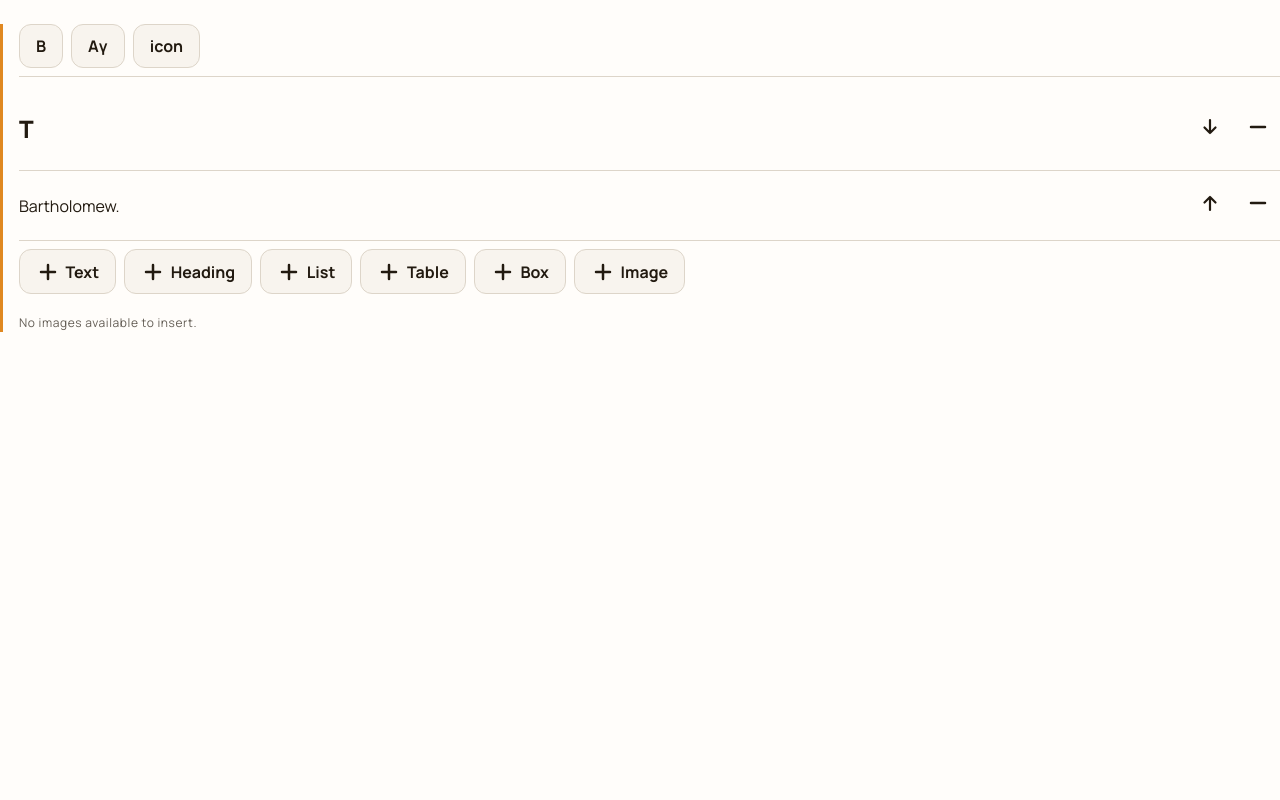
it: NoteEditor - lexicon sheet (spec 0021-3) › readout: no match
Click the button with aria-label "Edit this text" at (69, 206), box [19,195,120,217]
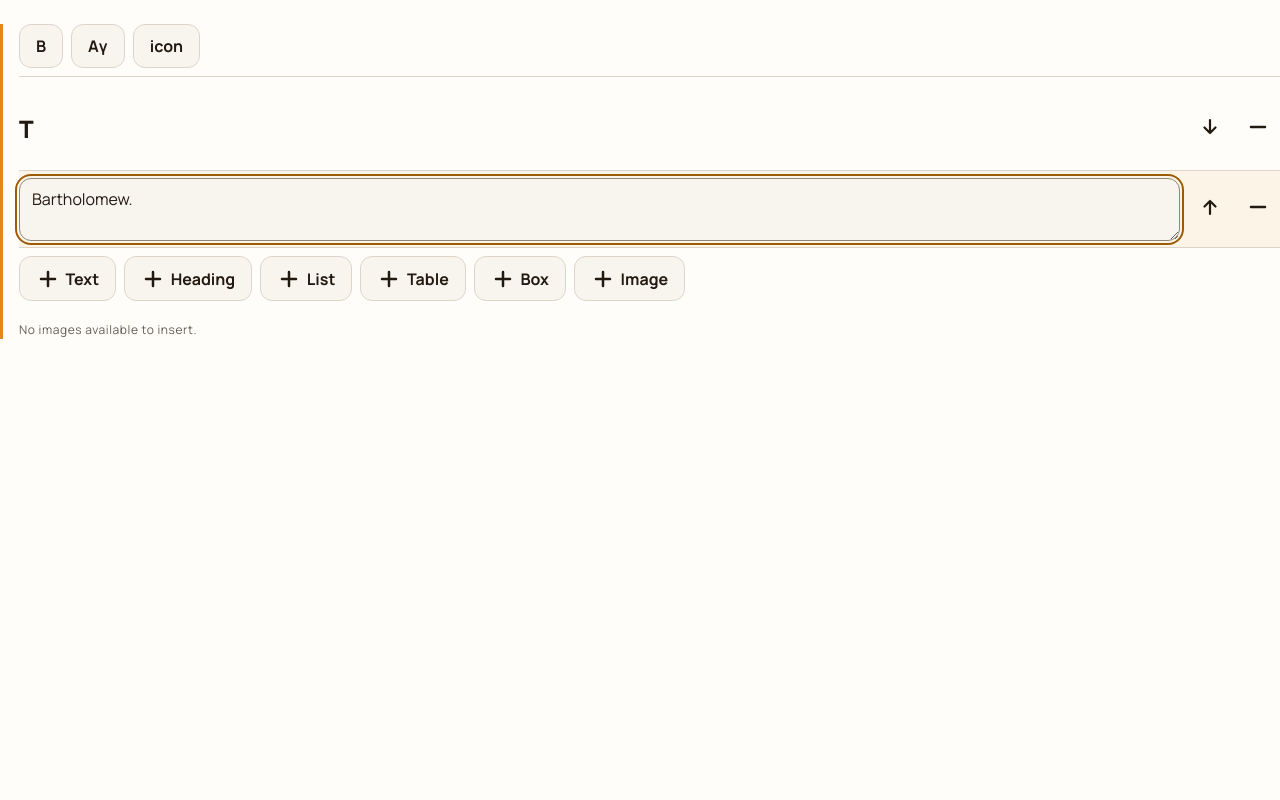
Click the button "Аү" at (98, 46), box [71,24,125,68]
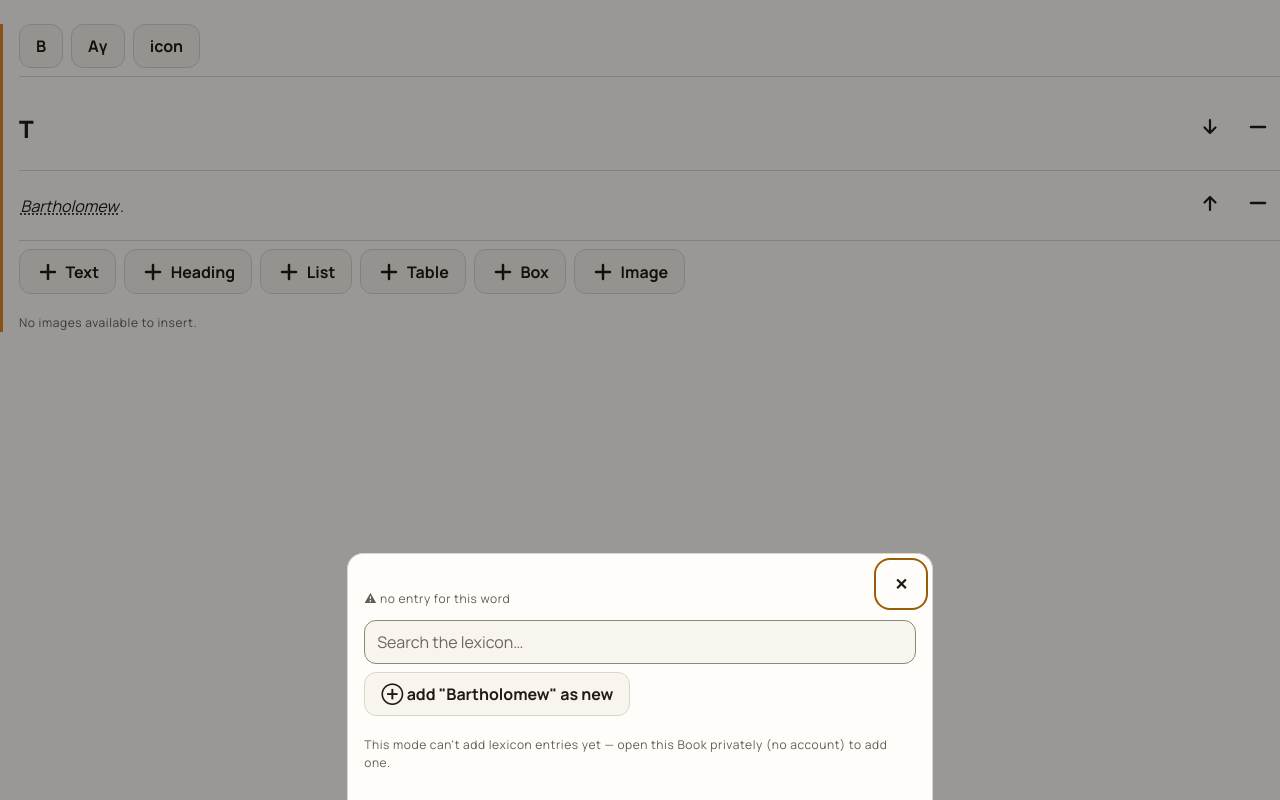
Expected: the text "⚠ no entry for this word" is shown, [364,590,510,607]
